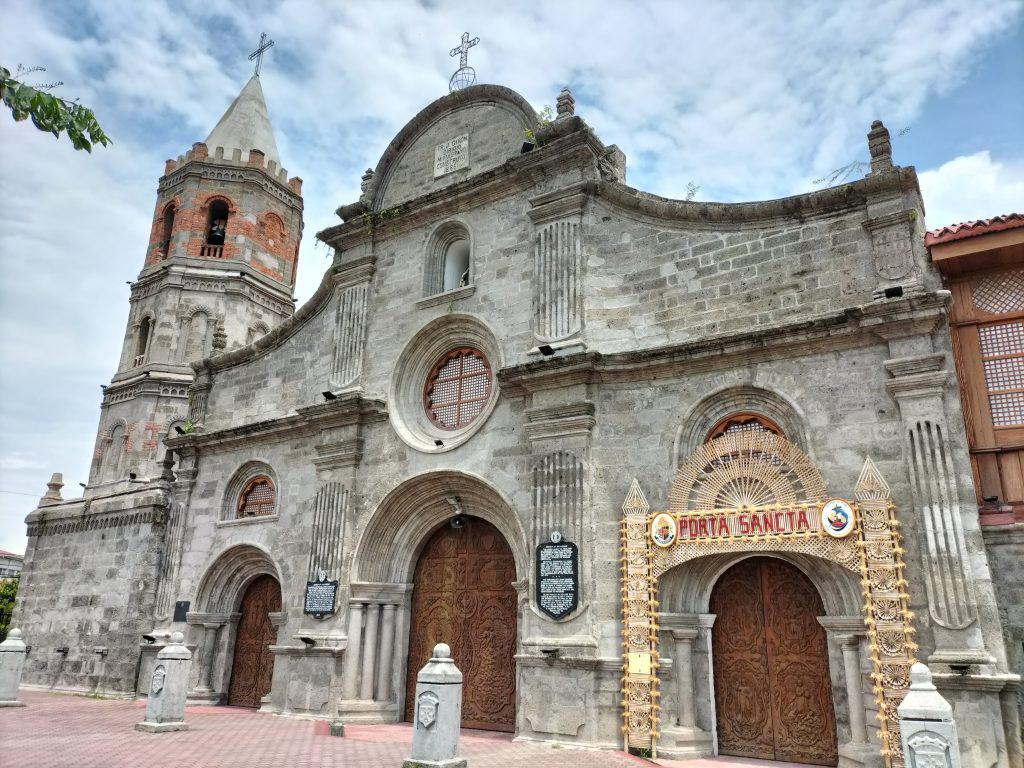barasoain_church_malolos_bulacan: (22, 26, 995, 763)
